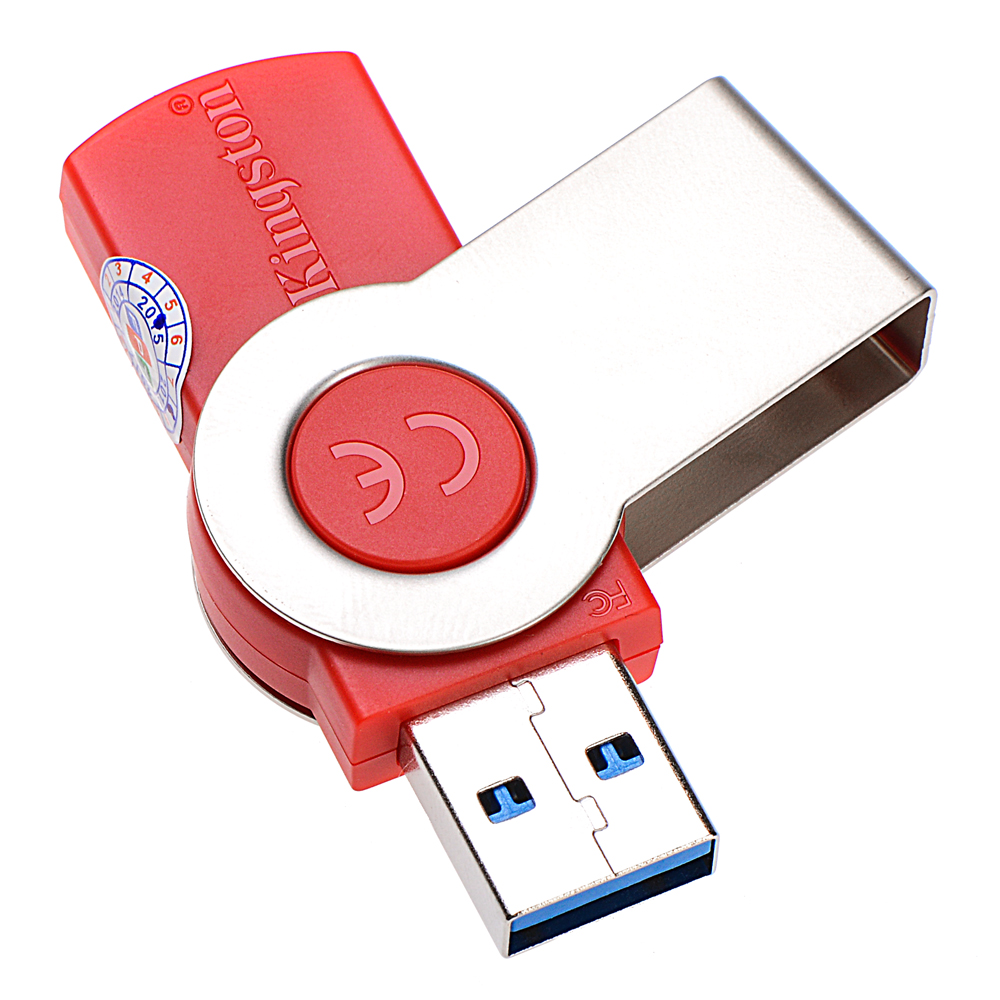Kingston: (157, 69, 353, 319)
